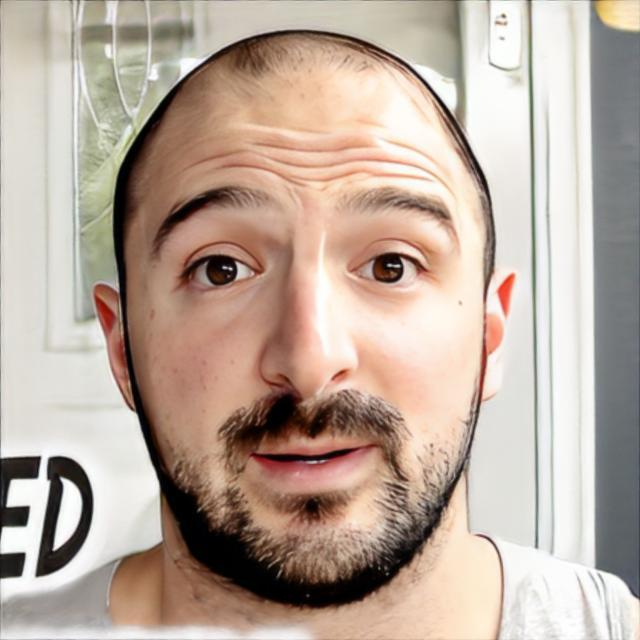surprise: (126, 29, 484, 610)
